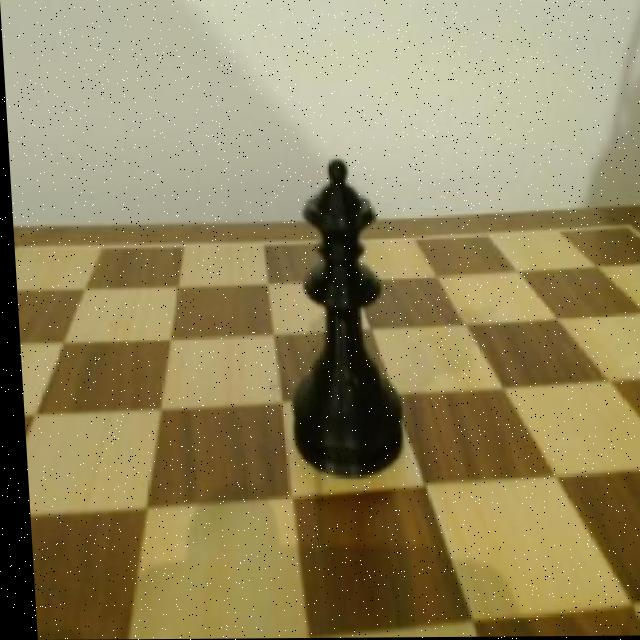black-pawn: (263, 156, 415, 494)
